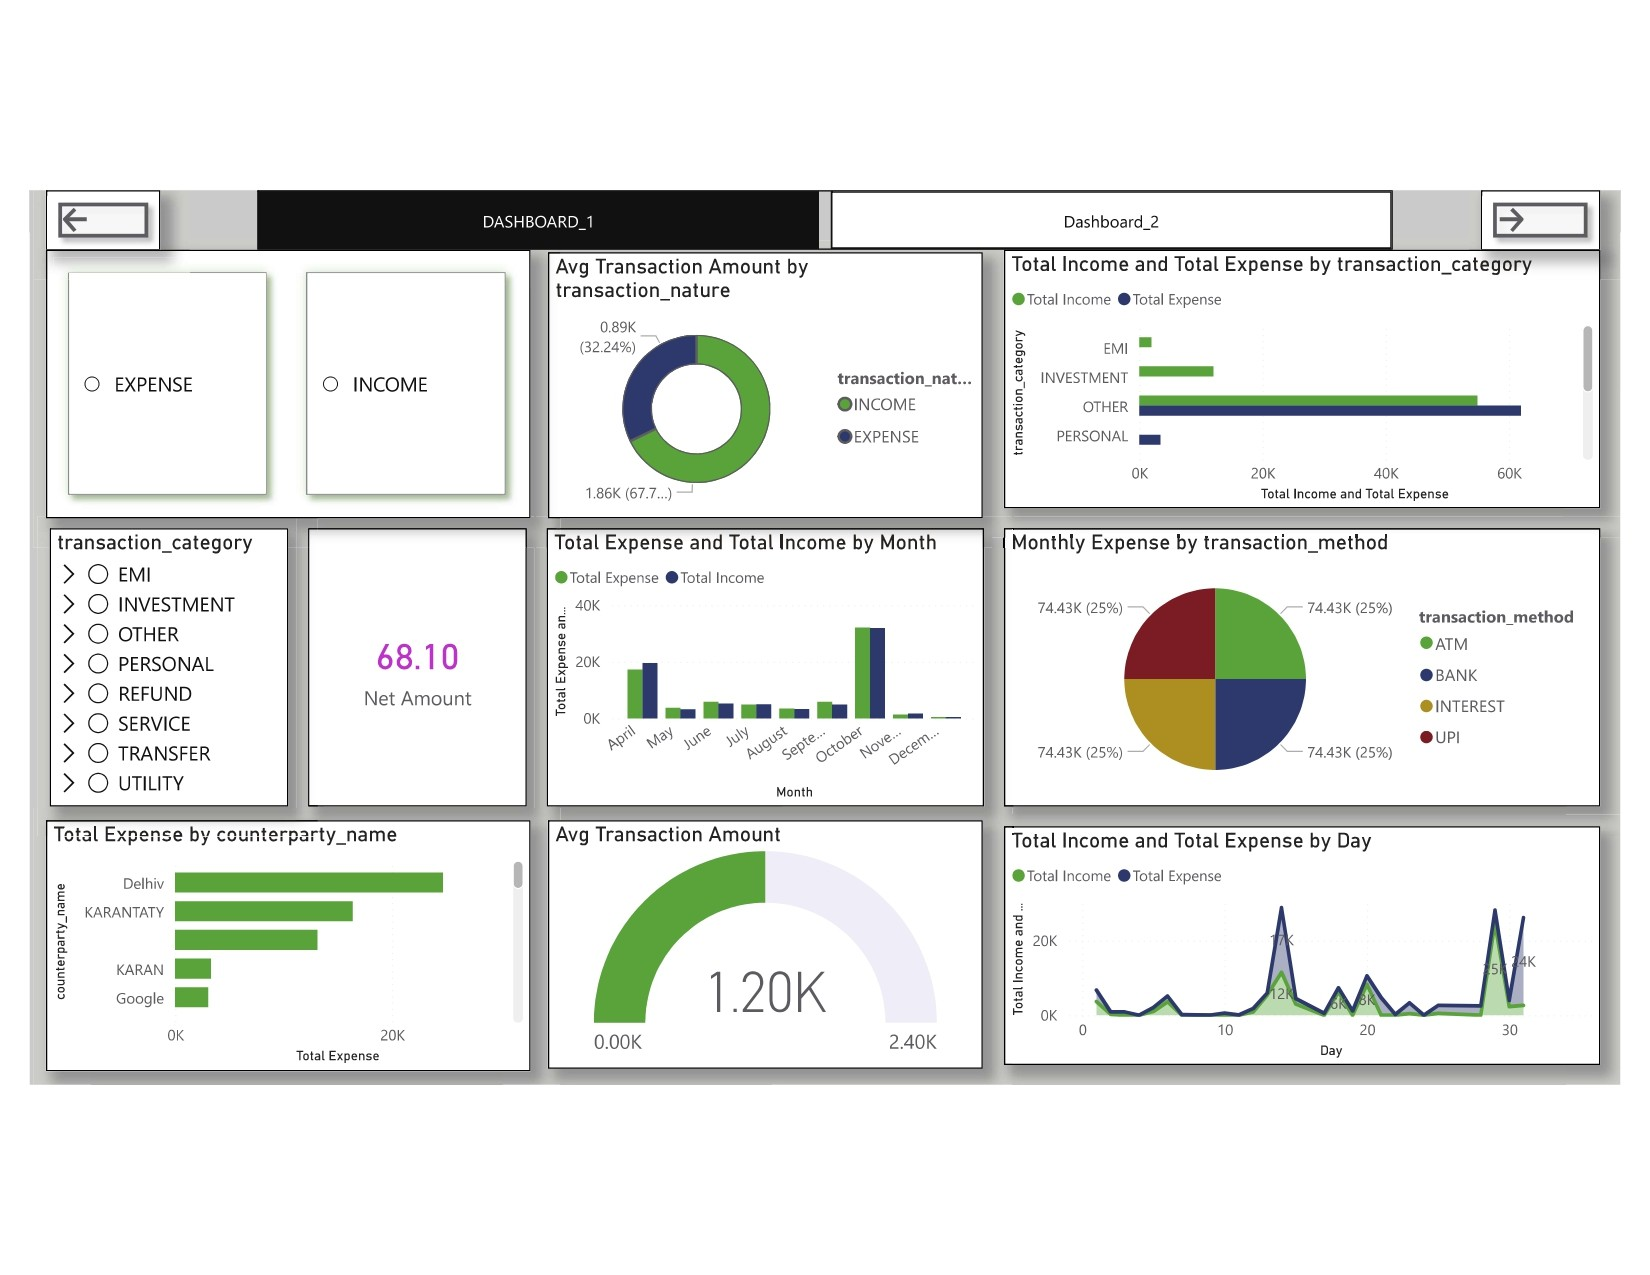

Layout of this report page (visuals, bound fields, positions):
{"tool":"powerbi","page":{"name":"DASHBOARD_1","canvas":[1280,720],"ordinal":0},"visuals":[{"type":"card","fields":{"Values":["fact_transactions.Net Amount"]},"box":[224,272,176,224],"z":0},{"type":"barChart","fields":{"Category":["fact_transactions.counterparty_name"],"Y":["fact_transactions.Total Expense"]},"box":[12.8,507.5,389.8,201.3],"z":1000},{"type":"pieChart","fields":{"Y":["fact_transactions.Monthly Expense"],"Category":["fact_transactions.transaction_method"]},"box":[784,272,480,224],"z":2000},{"type":"stackedAreaChart","fields":{"Category":["fact_transactions.txn_date.Variation.Date Hierarchy.Year","fact_transactions.txn_date.Variation.Date Hierarchy.Quarter","fact_transactions.txn_date.Variation.Date Hierarchy.Month","fact_transactions.txn_date.Variation.Date Hierarchy.Day"],"Y":["fact_transactions.Total Income","fact_transactions.Total Expense"]},"box":[784,512,480,192],"z":3000},{"type":"clusteredColumnChart","fields":{"Category":["fact_transactions.txn_date.Variation.Date Hierarchy.Year","fact_transactions.txn_date.Variation.Date Hierarchy.Quarter","fact_transactions.txn_date.Variation.Date Hierarchy.Month","fact_transactions.txn_date.Variation.Date Hierarchy.Day"],"Y":["fact_transactions.Total Expense","fact_transactions.Total Income"]},"box":[416,272,352,224],"z":4000},{"type":"gauge","fields":{"Y":["fact_transactions.Avg Transaction Amount"]},"box":[416.7,507.5,350.1,199.9],"z":5000},{"type":"donutChart","fields":{"Category":["fact_transactions.transaction_nature"],"Y":["fact_transactions.Avg Transaction Amount"]},"box":[416.7,49.6,350.1,214],"z":6000},{"type":"clusteredBarChart","fields":{"Category":["fact_transactions.transaction_category","fact_transactions.txn_date.Variation.Date Hierarchy.Year","fact_transactions.txn_date.Variation.Date Hierarchy.Quarter","fact_transactions.txn_date.Variation.Date Hierarchy.Month","fact_transactions.txn_date.Variation.Date Hierarchy.Day"],"Y":["fact_transactions.Total Income","fact_transactions.Total Expense"]},"box":[784,48,480,208],"z":7000},{"type":"advancedSlicerVisual","fields":{"Values":["fact_transactions.transaction_nature"]},"box":[12.8,48.2,389.8,215.5],"z":8000},{"type":"actionButton","box":[1168,0,96,48],"z":9000},{"type":"actionButton","box":[12.8,0,92.1,48.2],"z":10000},{"type":"pageNavigator","box":[182.9,0,914.3,48.2],"z":11000},{"type":"listSlicer","fields":{"Values":["fact_transactions.transaction_category","fact_transactions.transaction_method"]},"box":[16,272,192,224],"z":13000}]}

Visuals, with their boxes in screenshot pixels (x1, y1, x2, y2):
card - fact_transactions.Net Amount: (309,523,525,797)
barChart - fact_transactions.counterparty_name x fact_transactions.Total Expense: (50,811,528,1058)
pieChart - fact_transactions.Monthly Expense x fact_transactions.transaction_method: (996,523,1584,797)
stackedAreaChart - fact_transactions.txn_date.Variation.Date Hierarchy.Year x fact_transactions.txn_date.Variation.Date Hierarchy.Quarter: (996,817,1584,1052)
clusteredColumnChart - fact_transactions.txn_date.Variation.Date Hierarchy.Year x fact_transactions.txn_date.Variation.Date Hierarchy.Quarter: (544,523,976,797)
gauge - fact_transactions.Avg Transaction Amount: (545,811,975,1056)
donutChart - fact_transactions.transaction_nature x fact_transactions.Avg Transaction Amount: (545,250,975,512)
clusteredBarChart - fact_transactions.transaction_category x fact_transactions.txn_date.Variation.Date Hierarchy.Year: (996,248,1584,503)
advancedSlicerVisual - fact_transactions.transaction_nature: (50,248,528,512)
actionButton: (1467,189,1584,248)
actionButton: (50,189,163,248)
pageNavigator: (259,189,1380,248)
listSlicer - fact_transactions.transaction_category x fact_transactions.transaction_method: (54,523,289,797)
